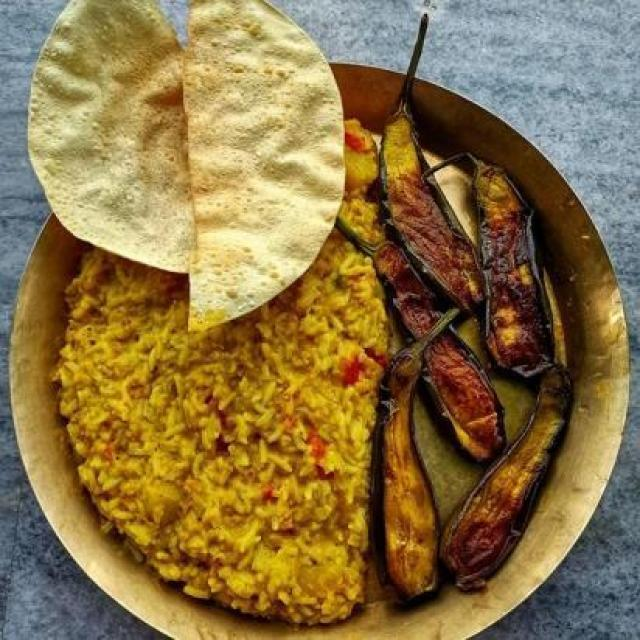khichdi: (69, 122, 381, 614)
papad: (168, 0, 334, 332), (23, 5, 212, 268)
